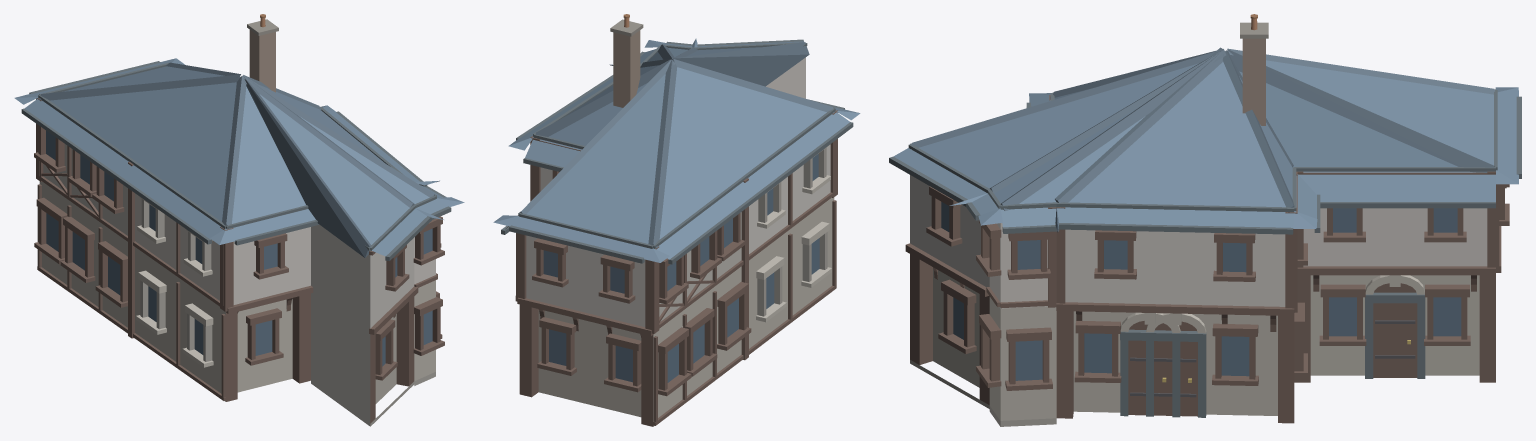
3 views of the same model, side by side, from view 1: azimuth 30°, elevation 25°; view 2: azimuth 150°, elevation 25°; view 3: azimuth 270°, elevation 25° (orthographic). The views are drawn at different scales.
Parts seen in each view (by area): view 1: B124_visible; view 2: B124_visible; view 3: B124_visible.
Part boxes in pixels (box(x1,y1,x2,y2)): B124_visible: box(14, 14, 464, 426); B124_visible: box(493, 14, 860, 426); B124_visible: box(889, 14, 1521, 426).
Bounding box in the file's own units: 9.26 × 11.13 × 17.26.
